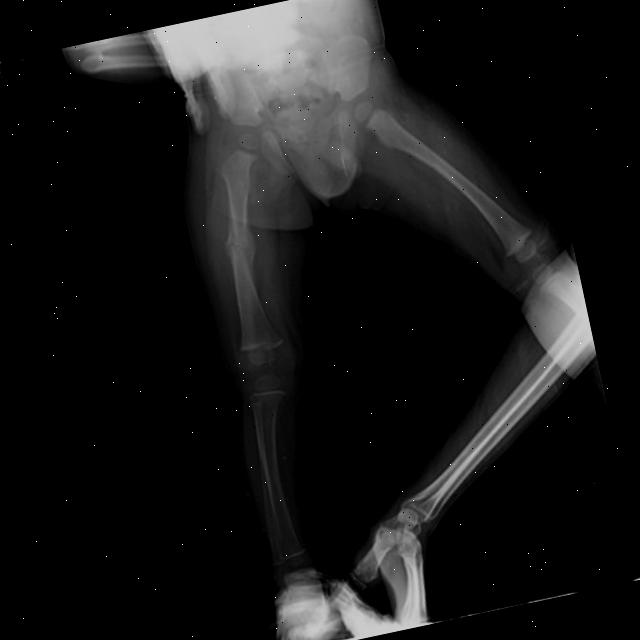fractured: (218, 229, 259, 263)
